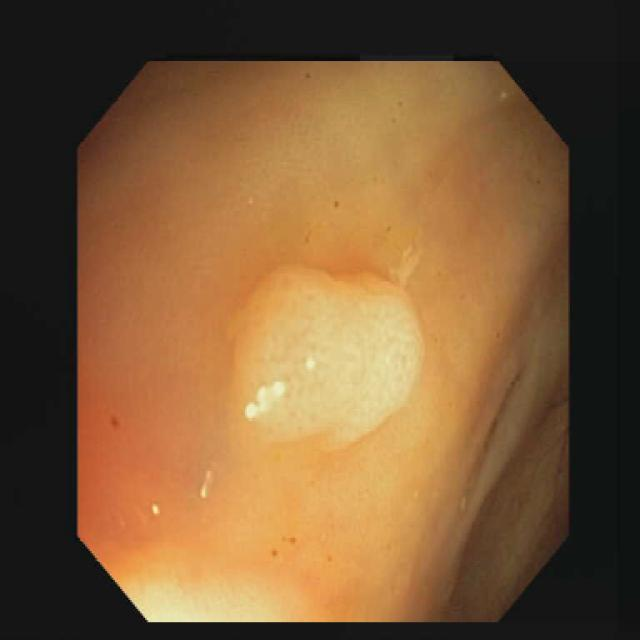tumor: (233, 267, 422, 449)
